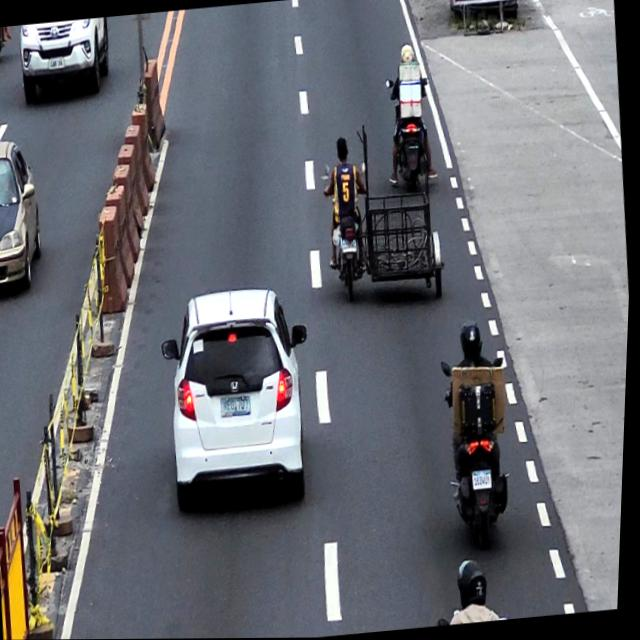Car: (156, 281, 327, 518)
License-Plate: (223, 395, 254, 418), (475, 470, 497, 490), (342, 238, 359, 254)
Motorcycle: (439, 352, 522, 547), (383, 75, 439, 194)
Tricycle: (319, 154, 453, 314)
